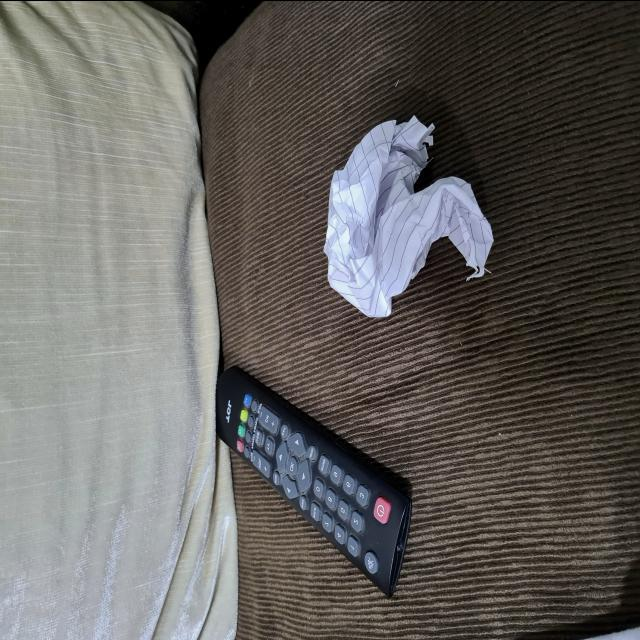Paper: (326, 112, 497, 322)
